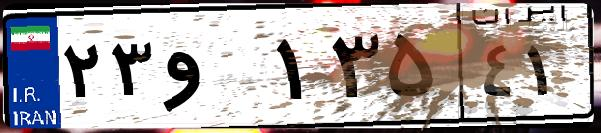1: (270, 28, 330, 110), (525, 38, 570, 115)
2: (57, 26, 110, 100)
3: (330, 28, 385, 110), (110, 28, 158, 98)
4: (475, 38, 525, 113)
5: (385, 28, 445, 110)
و: (158, 20, 270, 120)
